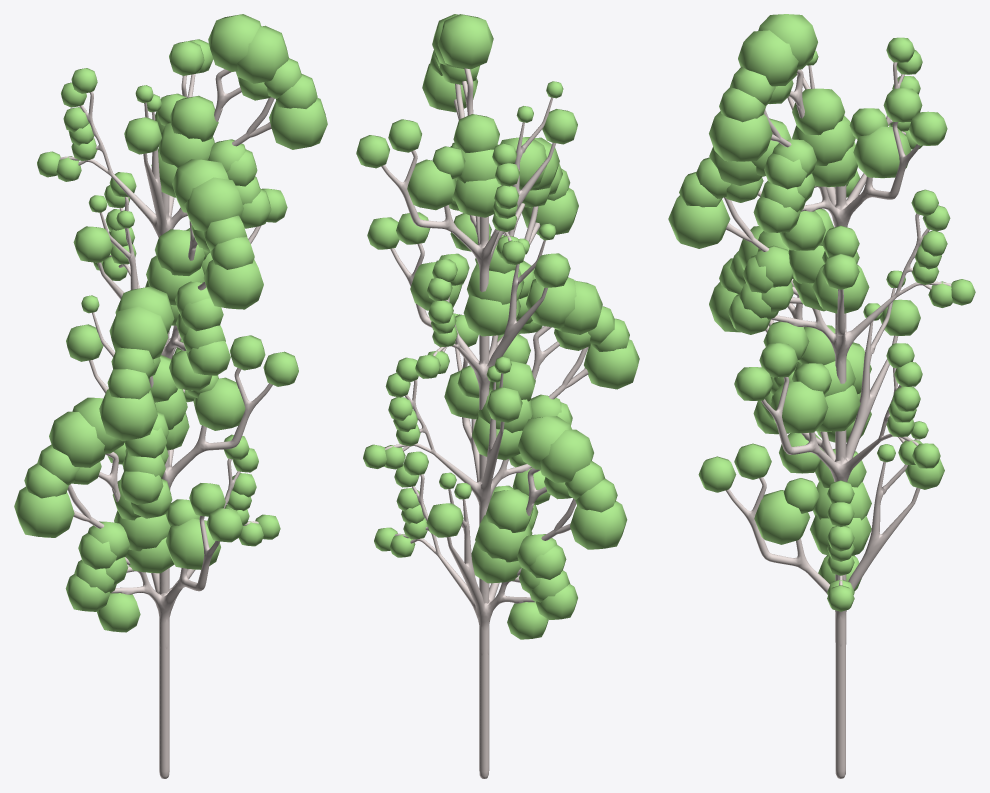
The model's file is large_tree2.fbx.
3 views of the same model, side by side, from view 1: azimuth 30°, elevation 25°; view 2: azimuth 150°, elevation 25°; view 3: azimuth 270°, elevation 25° (orthographic). The views are drawn at different scales.
Parts seen in each view (by area): view 1: Vert.015, Vert.011; view 2: Vert.015, Vert.011; view 3: Vert.015, Vert.011.
Part boxes in pixels (x1,y1,x2,y2): Vert.015: (14,14,327,632); Vert.011: (59,69,274,778); Vert.015: (356,14,639,639); Vert.011: (381,68,588,778); Vert.015: (668,14,975,611); Vert.011: (724,62,951,778).
Size of the model in its own units: 1119 by 1093 by 3088.
